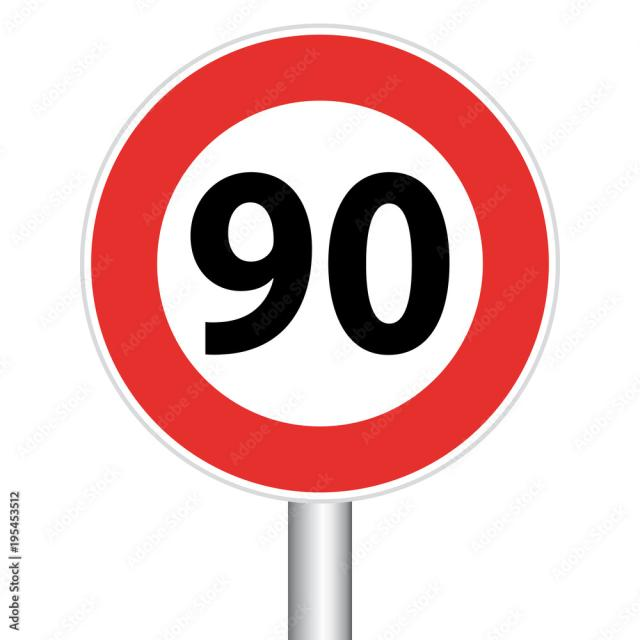speed_90: (84, 27, 554, 499)
